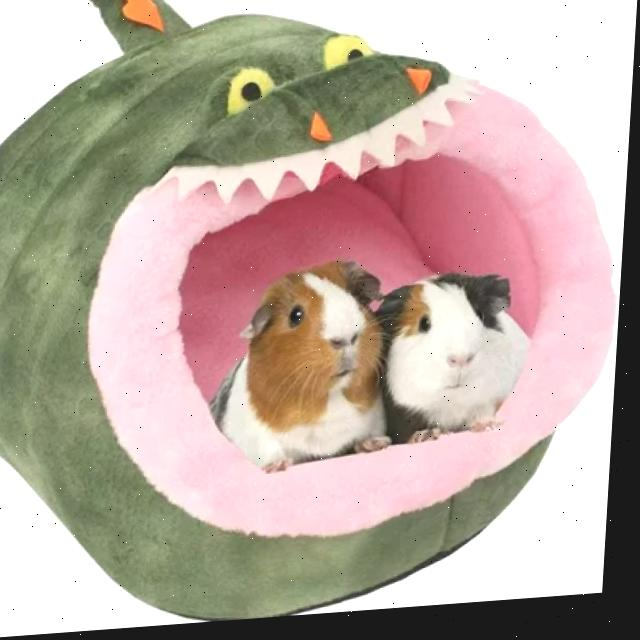guinea pig: (212, 264, 392, 481), (379, 274, 539, 454)
